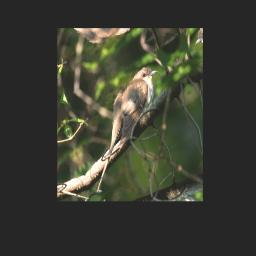Cuckoo: (68, 58, 183, 194)
